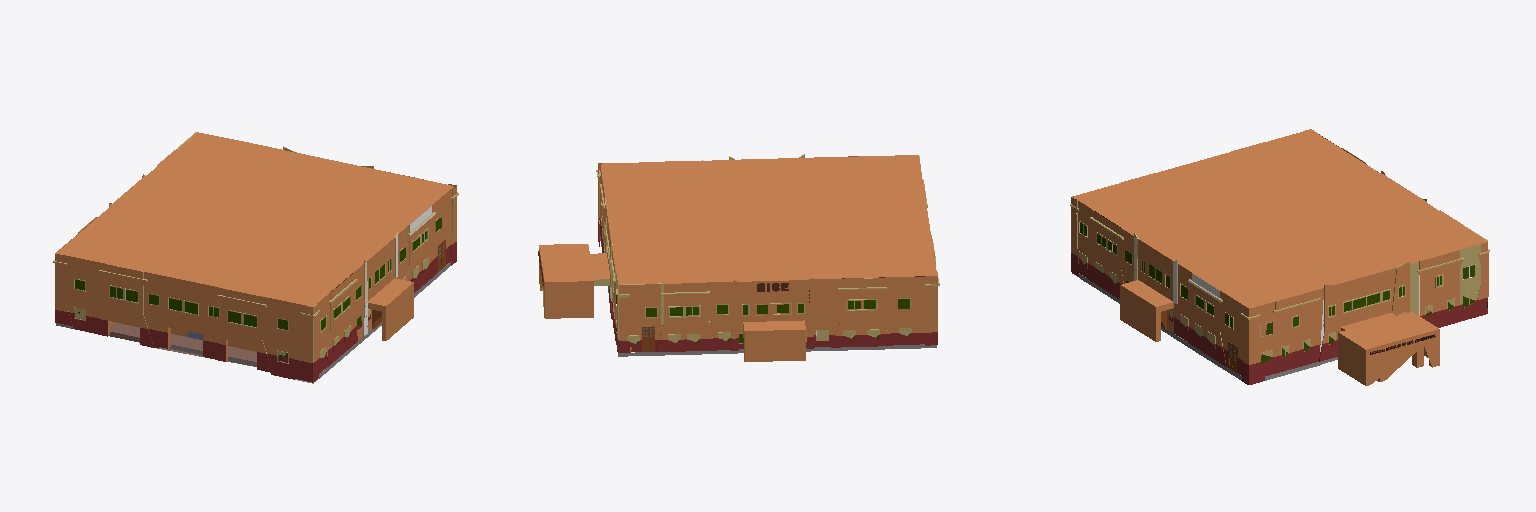
The model's file is nice.obj.
3 renders of one model, left to right at view 1: azimuth 30°, elevation 25°; view 2: azimuth 150°, elevation 25°; view 3: azimuth 270°, elevation 25°, orthographic.
Visible parts, largest first — view 1: Mesh46 skp1D7D1 Model; view 2: Mesh46 skp1D7D1 Model, Mesh63 skp1D7D1 Model, Mesh48 skp1D7D1 Model; view 3: Mesh46 skp1D7D1 Model, Mesh63 skp1D7D1 Model, Mesh51 skp1D7D1 Model.
Boxes of the visible parts, x1,y1,x2,y2 form: Mesh46 skp1D7D1 Model: [53, 132, 453, 383]; Mesh46 skp1D7D1 Model: [590, 154, 939, 361]; Mesh63 skp1D7D1 Model: [539, 244, 593, 318]; Mesh48 skp1D7D1 Model: [831, 292, 892, 347]; Mesh46 skp1D7D1 Model: [1070, 129, 1489, 380]; Mesh63 skp1D7D1 Model: [1338, 312, 1439, 385]; Mesh51 skp1D7D1 Model: [1240, 307, 1264, 384].
Size of the model in its own units: 2378 by 487 by 2307.